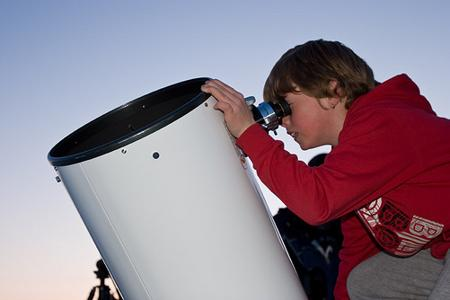person: (200, 40, 448, 300)
